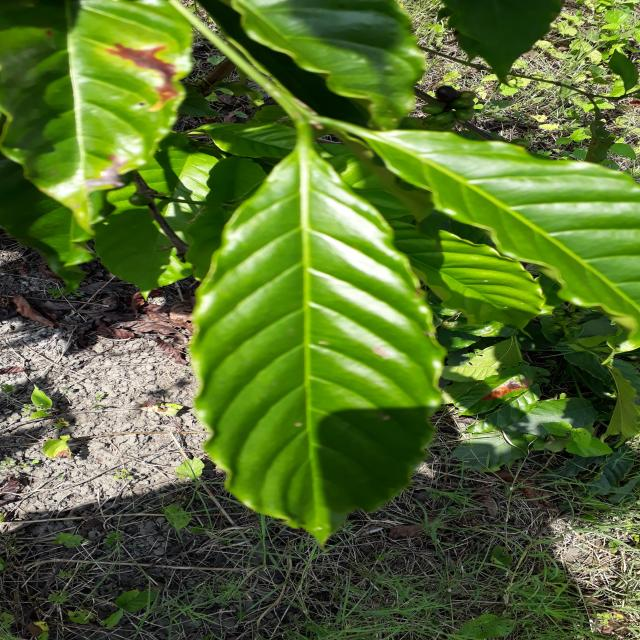Sanas: (192, 125, 446, 547)
